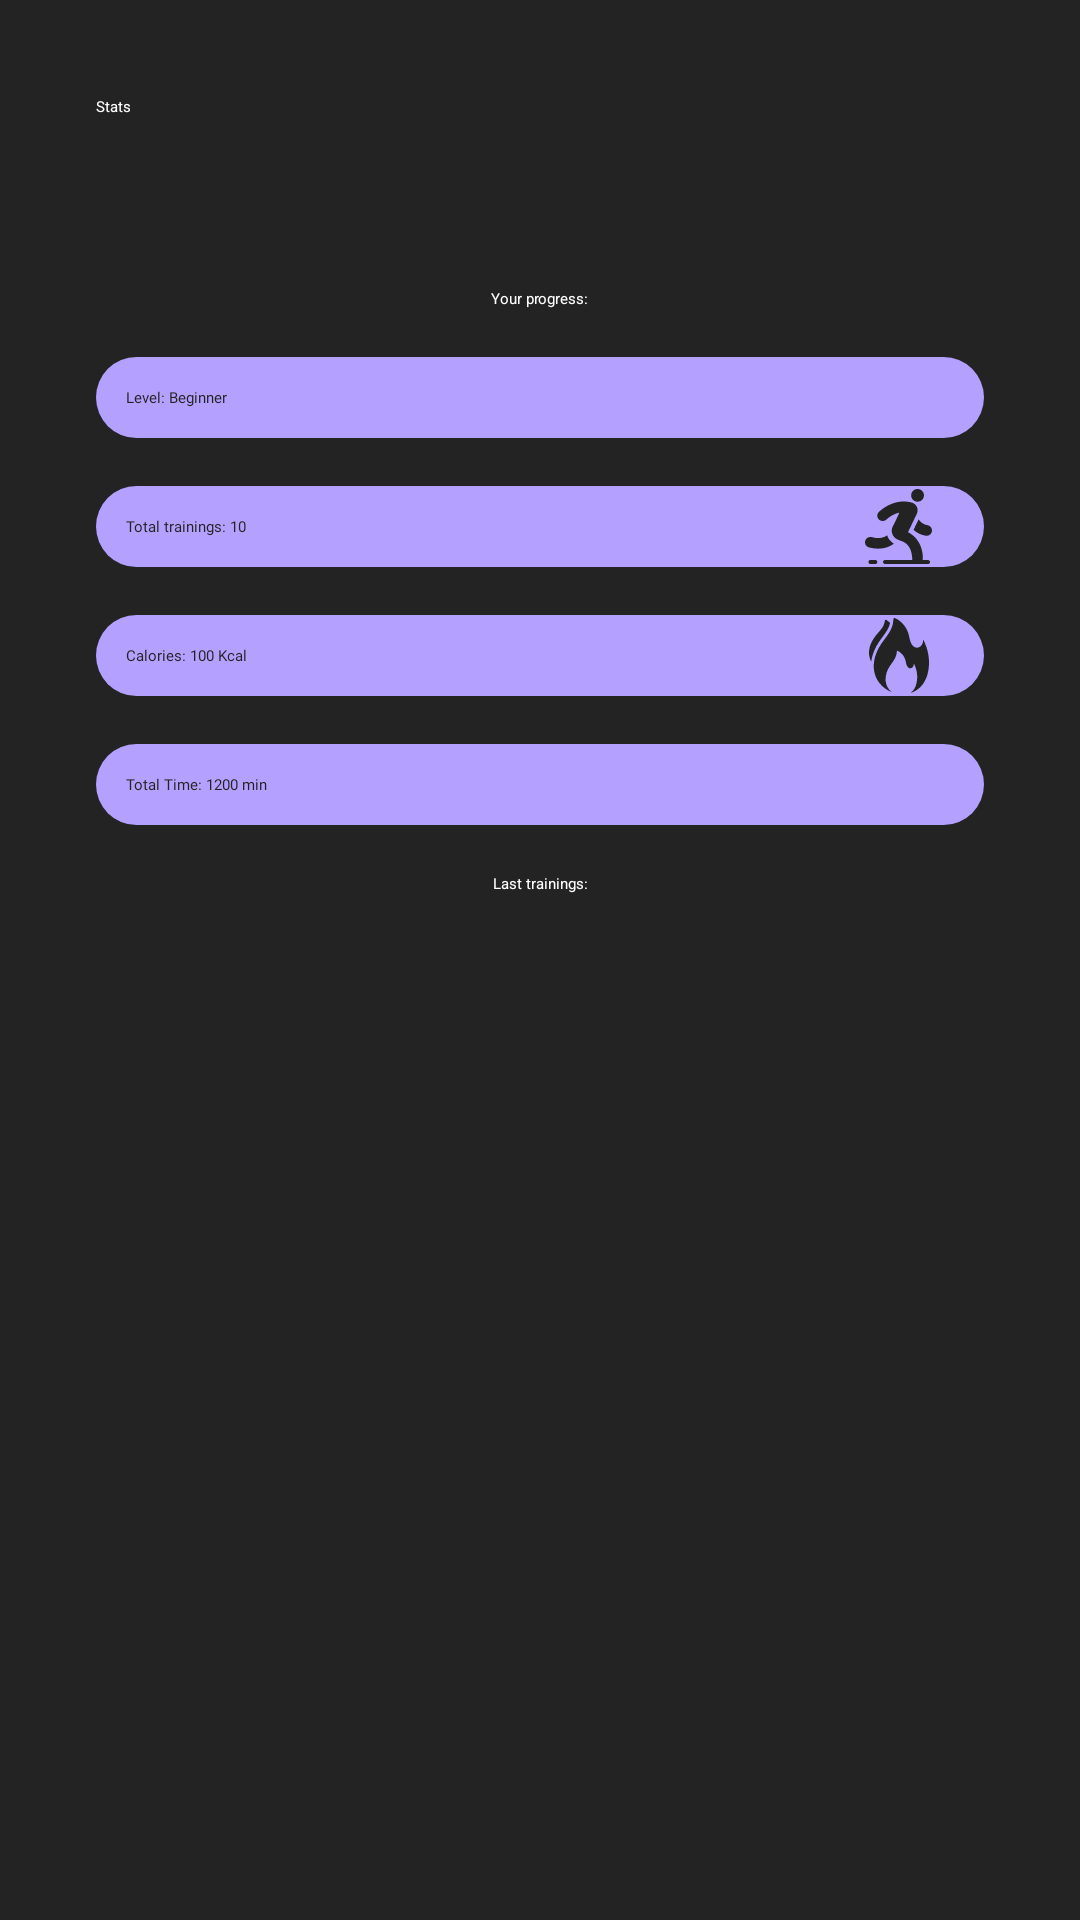

Icon click points for this 1080 x 1920 phone screenshot, format (x=x, y=y):
exercises: (x=898, y=526)
